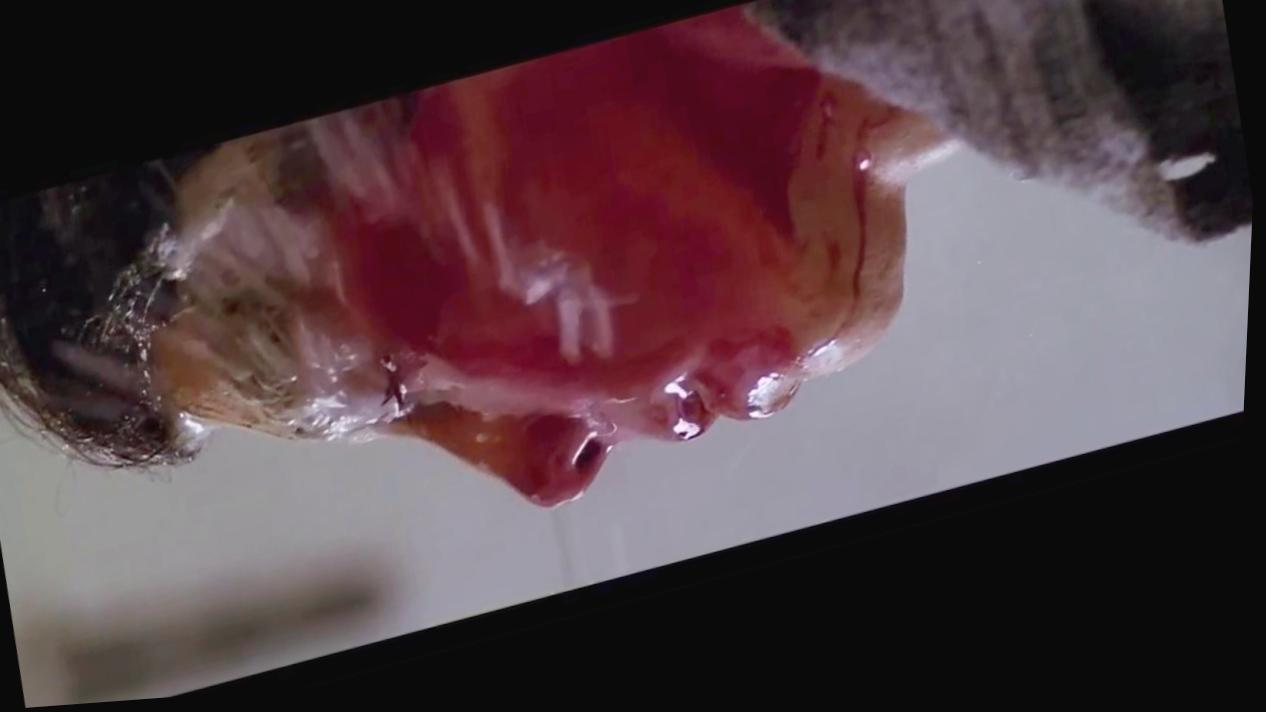Fire: (270, 21, 907, 517)
